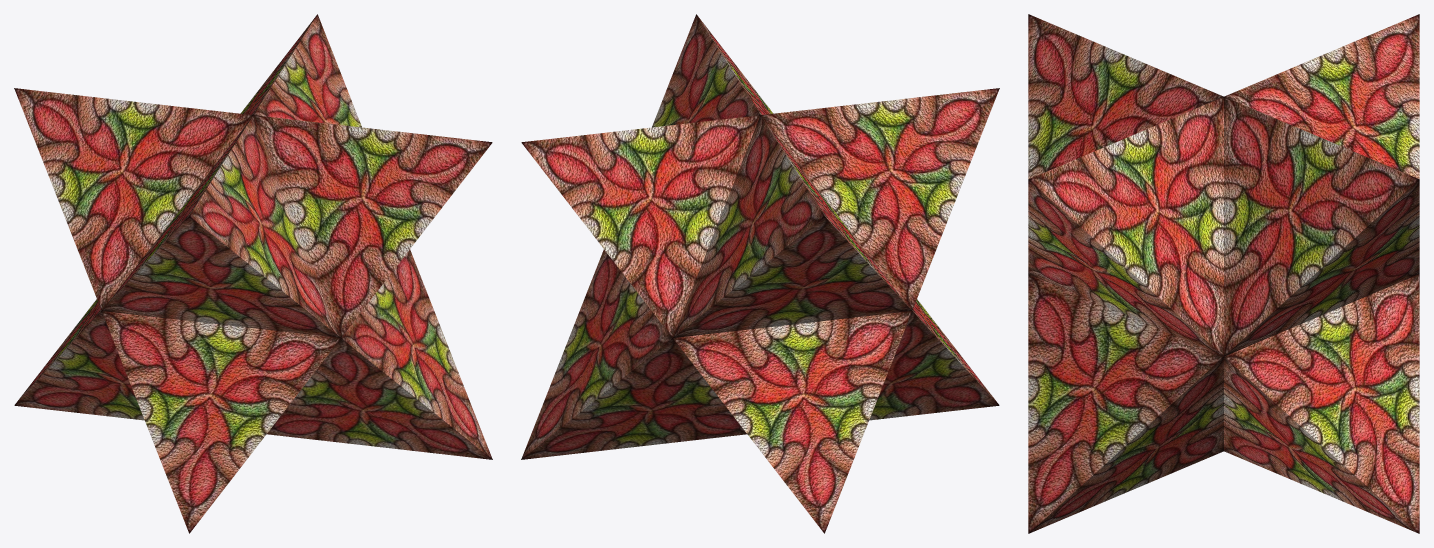
File: StellaOctangula1.obj
3 renders of one model, left to right at view 1: azimuth 30°, elevation 25°; view 2: azimuth 150°, elevation 25°; view 3: azimuth 270°, elevation 25°, orthographic. The views are drawn at different scales.
Size of the model in its own units: 0.7071 by 0.7071 by 0.7071.
Materials: 1 (1 with a texture image).
